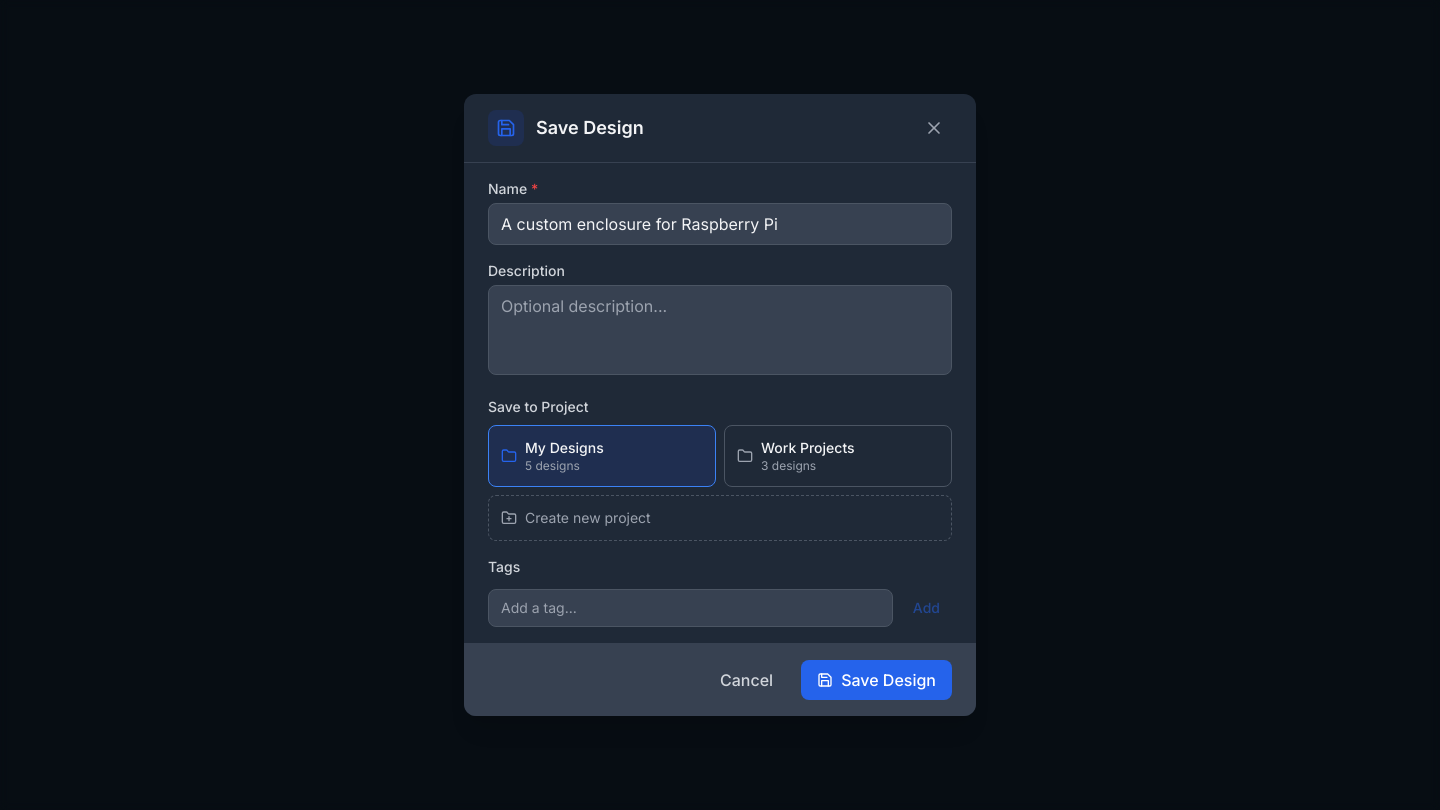
SaveDesignModal › disables save when name is empty
This screenshot has width=1440, height=810.
Clear the field showing "raspberry pi" at (720, 224), box x1=488 y1=203 x2=952 y2=245
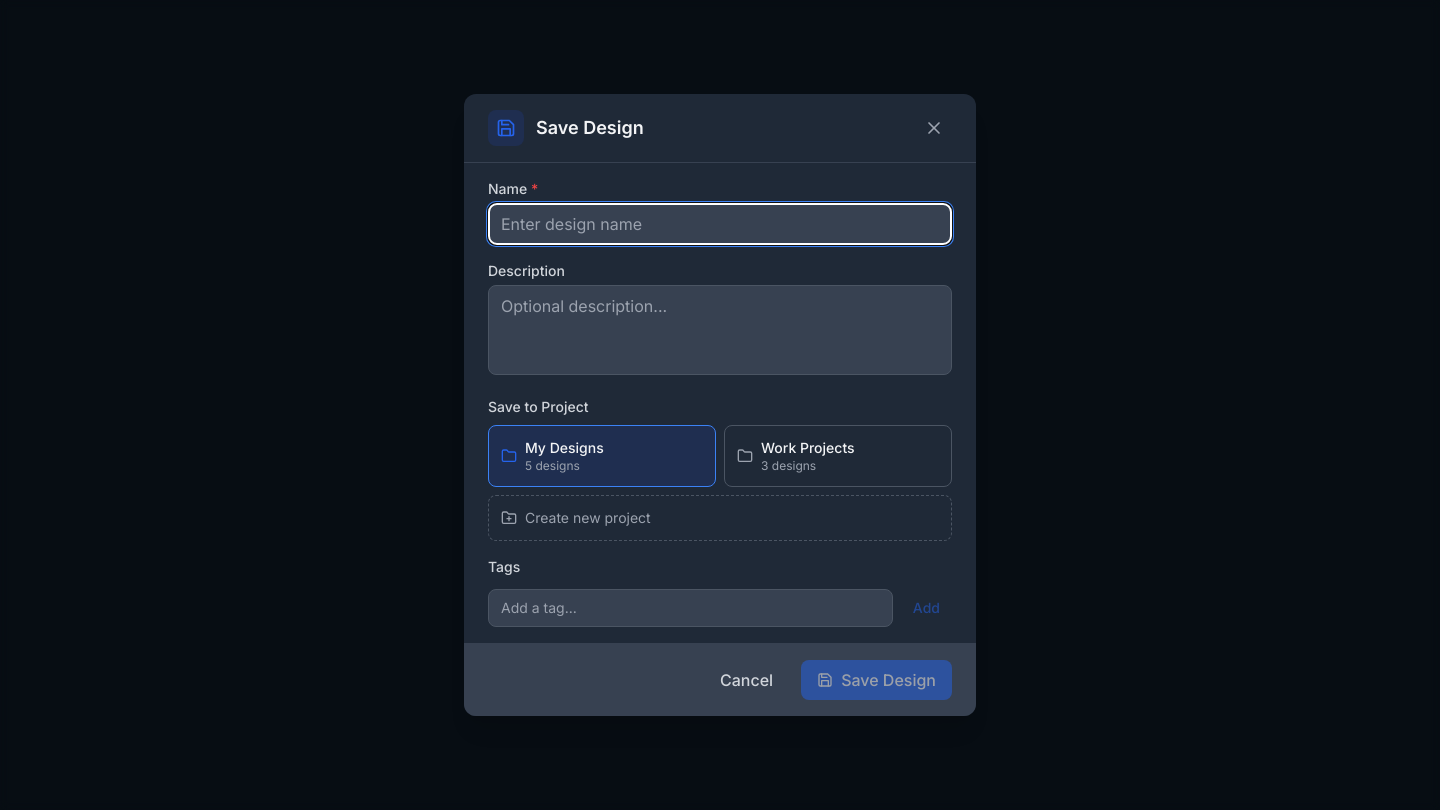
expect the button "Save Design" is disabled: met, box x1=801 y1=660 x2=952 y2=700
